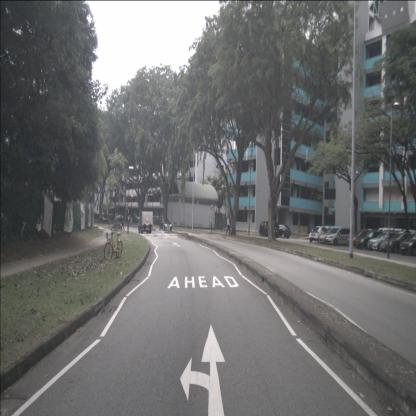human-pedestrian-adult: (226, 216, 231, 236), (120, 213, 125, 231)
movable_object-trafficcone: (246, 228, 249, 234)
vehicle-bicycle: (103, 228, 122, 260)
vehicle-car: (381, 233, 416, 254), (367, 232, 403, 250), (355, 230, 388, 249), (346, 230, 378, 248), (325, 227, 353, 246), (318, 227, 342, 244), (399, 234, 416, 256), (309, 226, 330, 242), (259, 221, 279, 237), (271, 224, 291, 239), (158, 218, 172, 232), (98, 214, 108, 223)
vehicle-truck: (138, 211, 153, 234)
